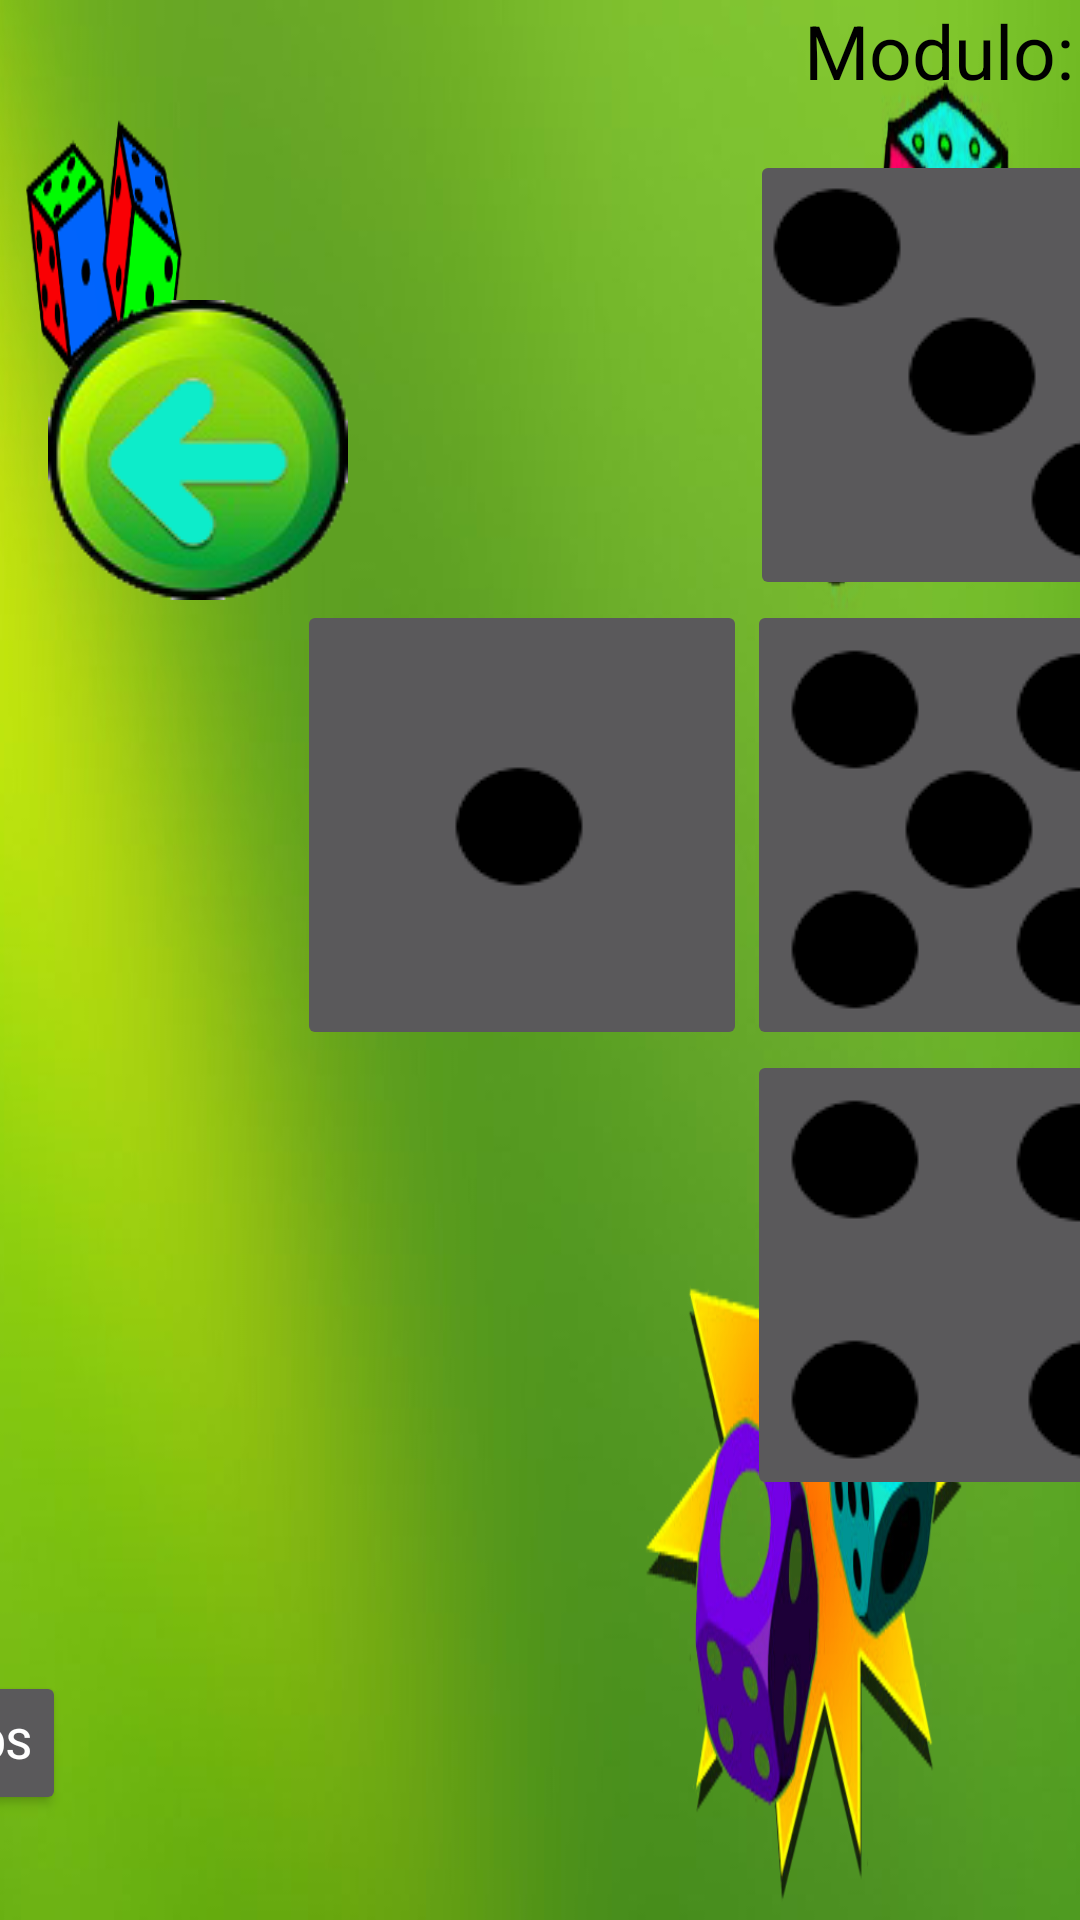

Where to tap for icons on this 1080 × 1920 app screen, as point (x, y):
back: point (198, 450)
